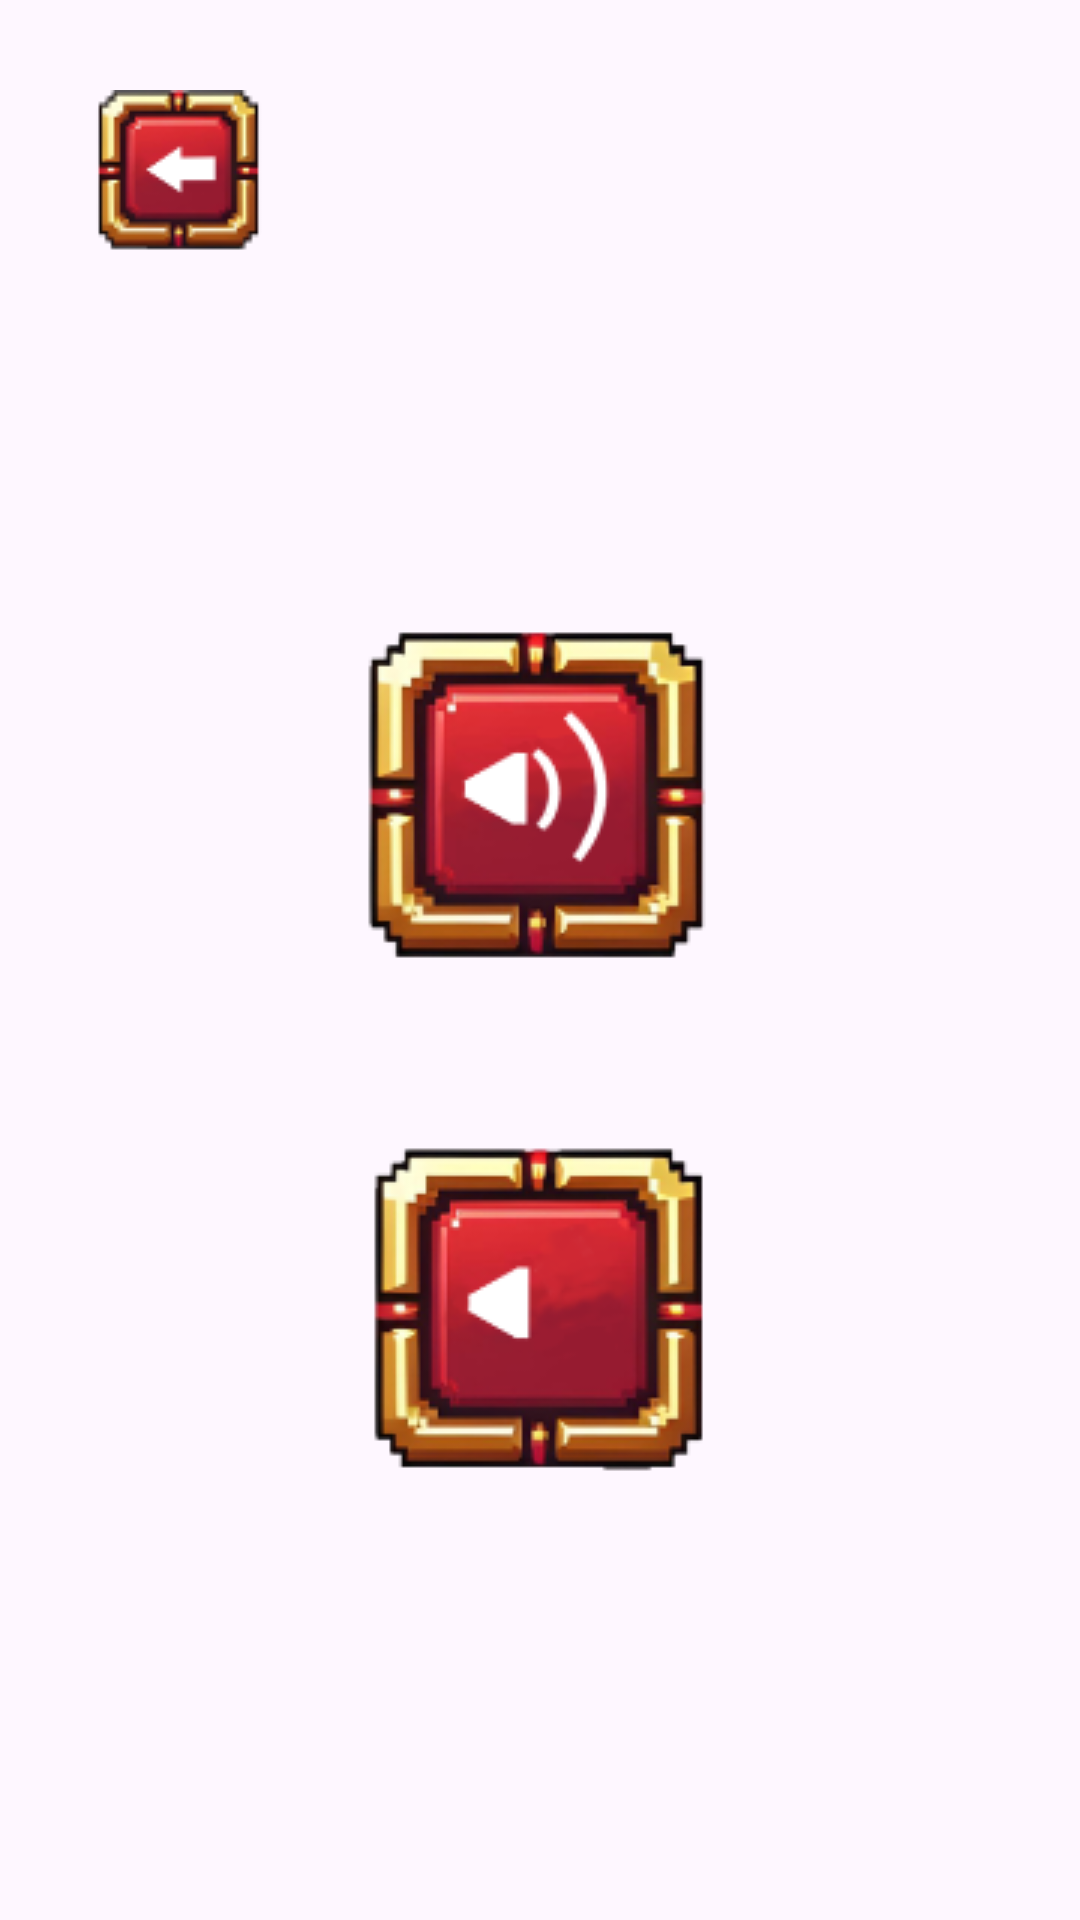

Icon bounding boxes for this 1080px x 1920px phone screenshot, format (x1, y1, x2, y2):
back: (98, 90, 259, 250)
full sound: (368, 632, 705, 958)
mini sound: (374, 1148, 703, 1471)
